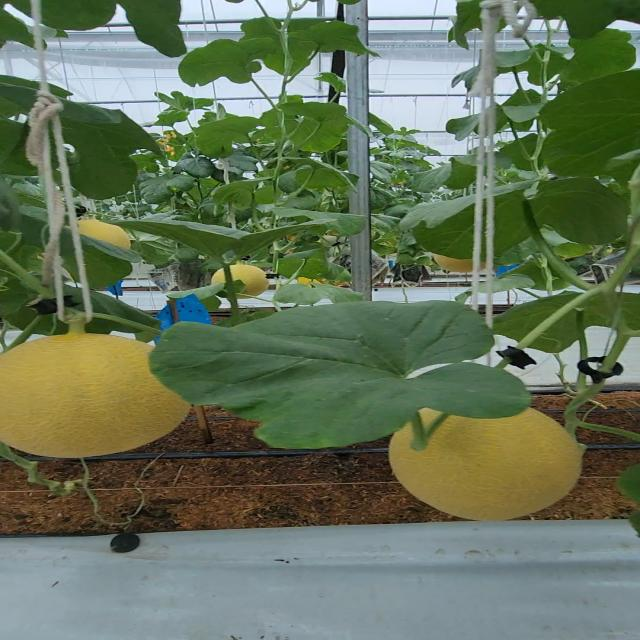Front-melon: (391, 408, 585, 521), (0, 337, 156, 457)
